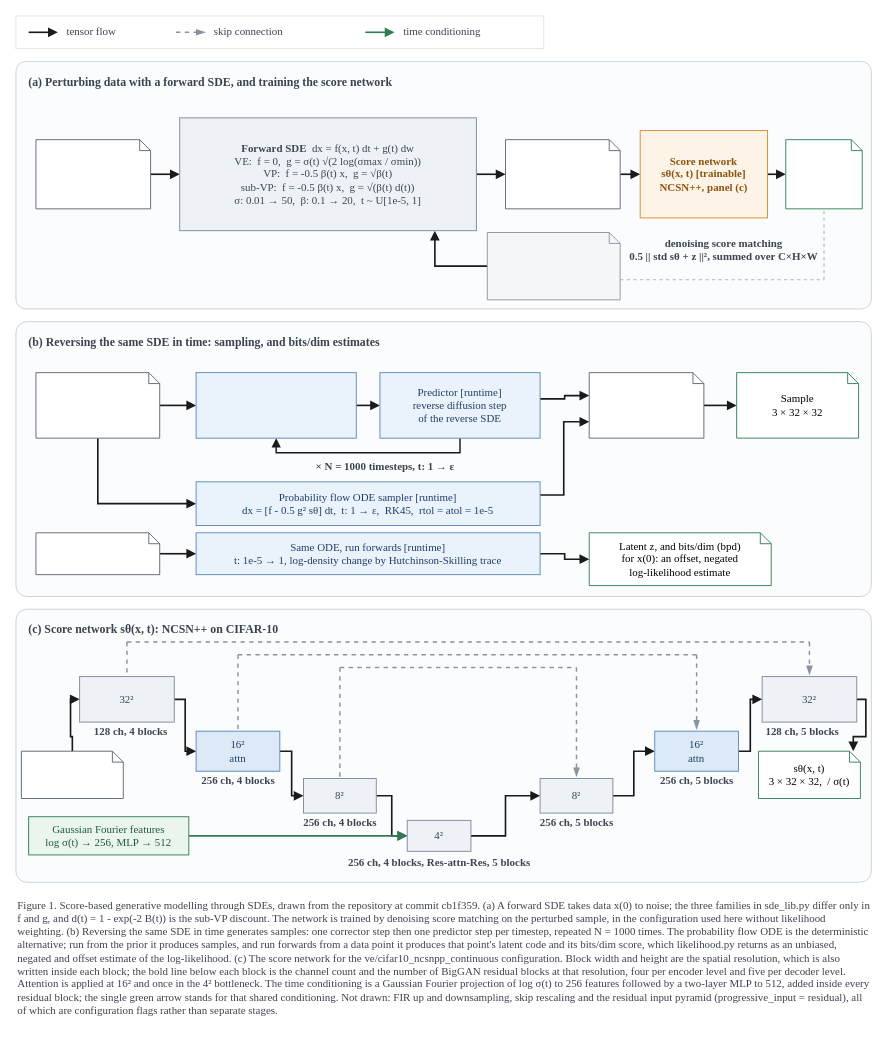
This 890x1062 diagram has some shape labels left out. The shapes that lost their labels are listed below. From the top down, each one's centre as x and y in pixels, then its label:
point (93, 174): Data x(0) 3 × 32 × 32 CIFAR-10
point (562, 174): Perturbed x(t) 3 × 32 × 32
point (823, 174): sθ(x(t), t) 3 × 32 × 32
point (553, 266): Noise z ~ N(0, I) x(t) = mean + std z
point (97, 405): Prior x(T) N(0, σmax² I) 3 × 32 × 32
point (275, 405): Corrector [runtime] Langevin, snr = 0.16 1 step per timestep
point (646, 405): Denoised x(ε) ε = 1e-5 for VE
point (97, 553): Data x(0) 3 × 32 × 32
point (71, 774): x(t) 3 × 32 × 32
